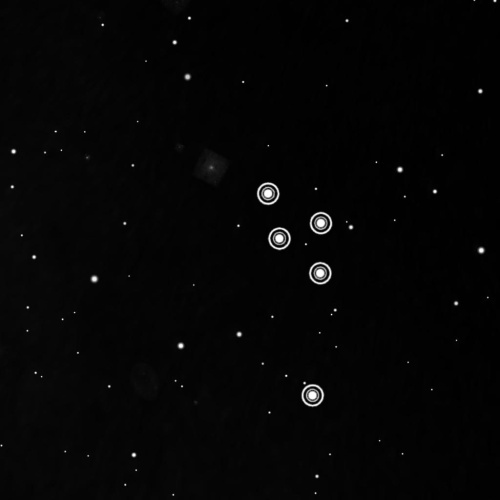delphinus: (250, 175, 337, 411)
